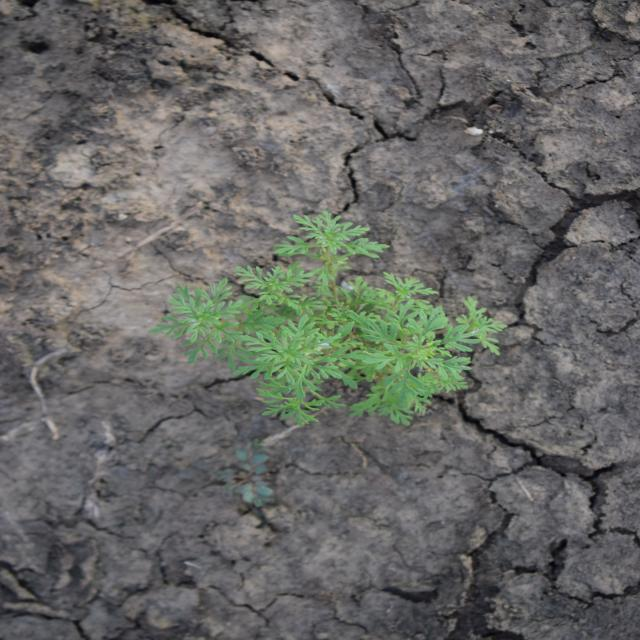Ragweed: (145, 208, 511, 428)
